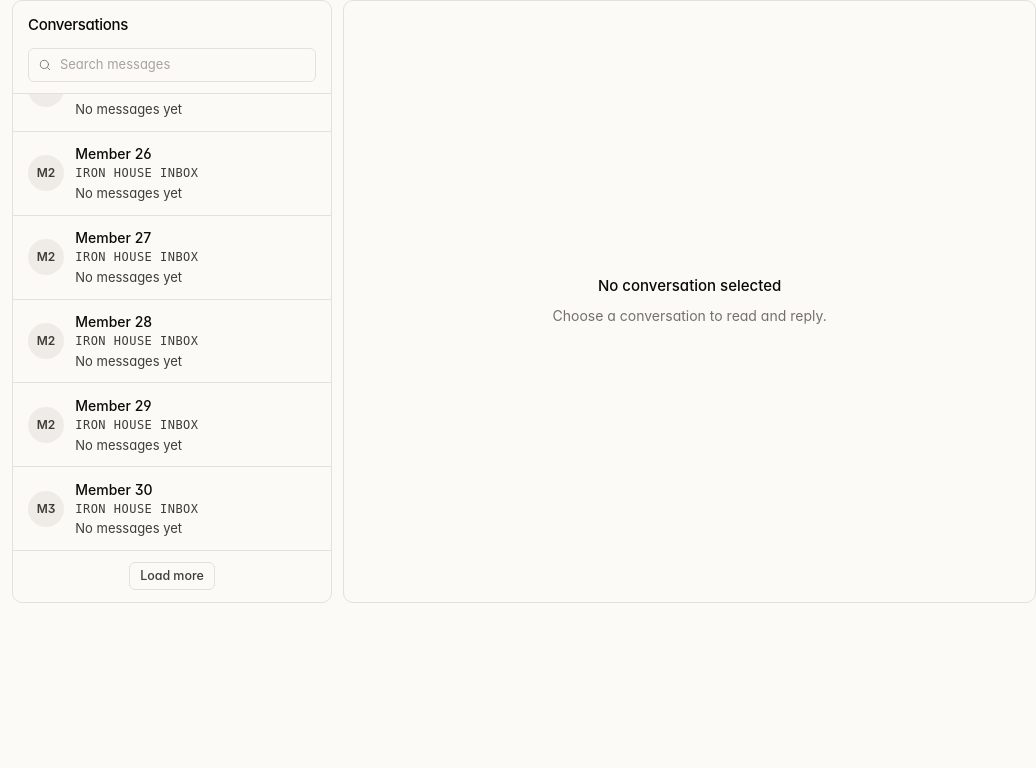
Test: MessagingCenter: gym inbox for staff (?as_gym=) › pages with next_cursor through Load more, keeping earlier rows
(page scrolled)
Check: the button with aria-label "Member 30," is shown, box [13,467,331,550]
Click the button "Load more" at coordinates (172, 576), box [129,562,215,590]
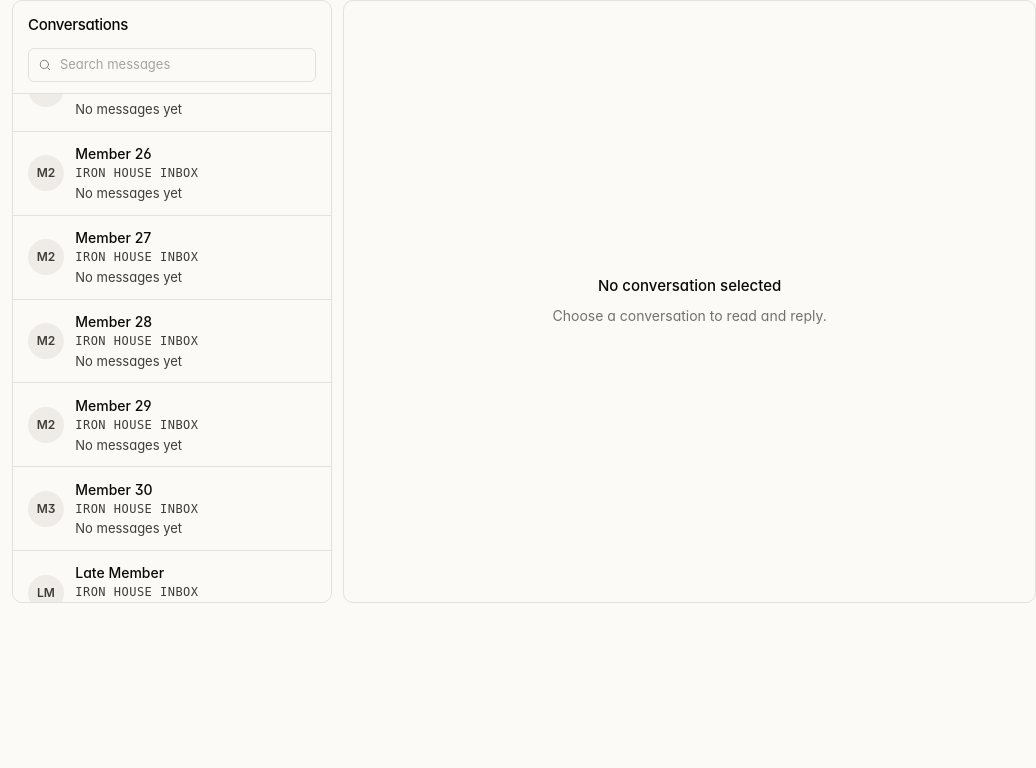
Check: the button "LM Late Member Iron House inbox No messages yet" is shown, box [13,551,331,602]
Check: the button "Load more" is gone
